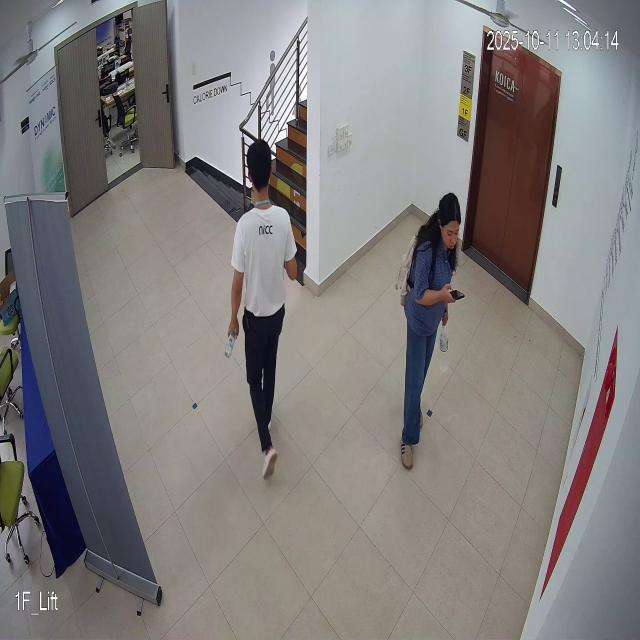face: (436, 185, 467, 258)
